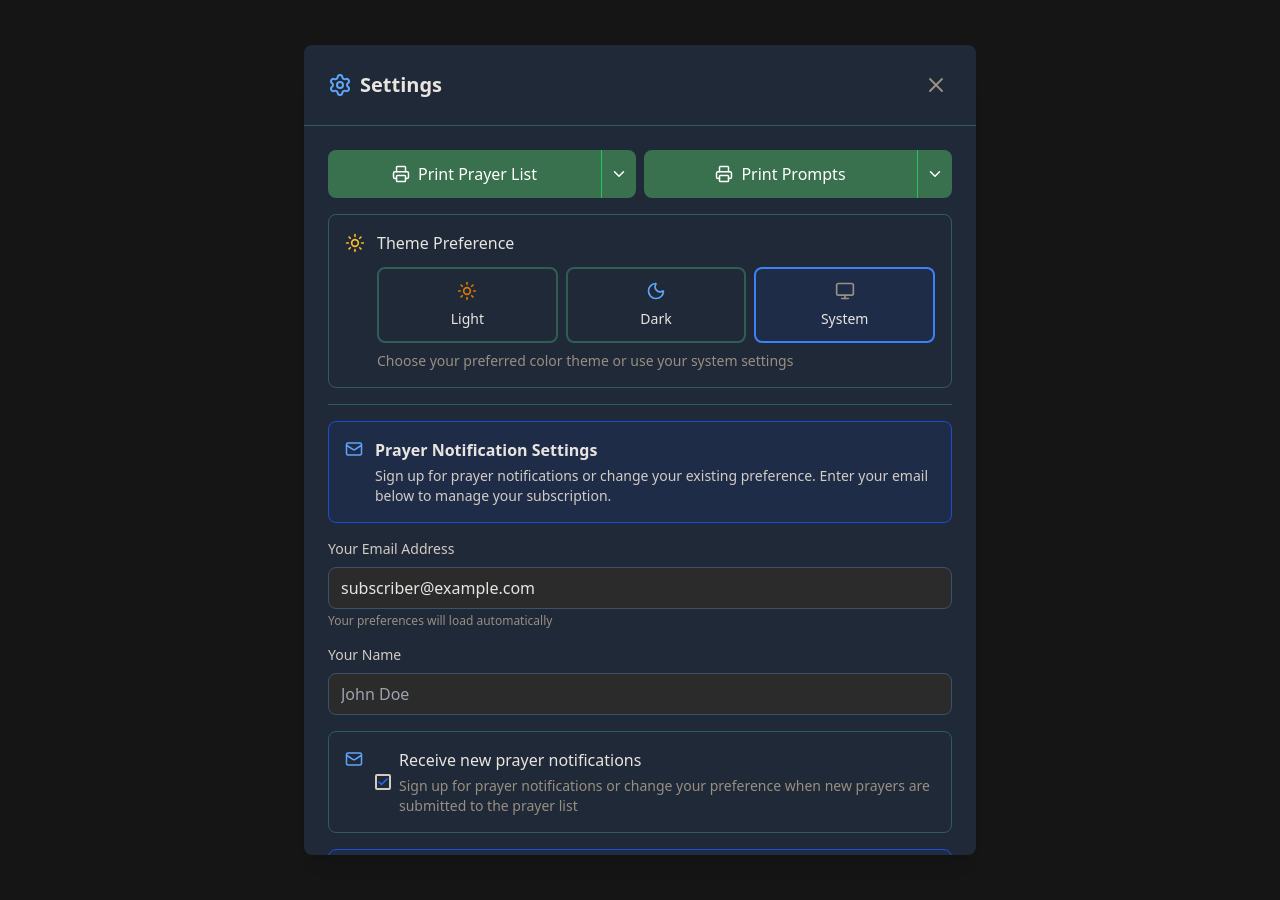
UserSettings › Save Preferences › shows Submitting... text while saving
Type "test@example.com" into the field with placeholder "your.email@example.com".
click(640, 588); type("test@example.com")  # box 328,567 -> 952,609
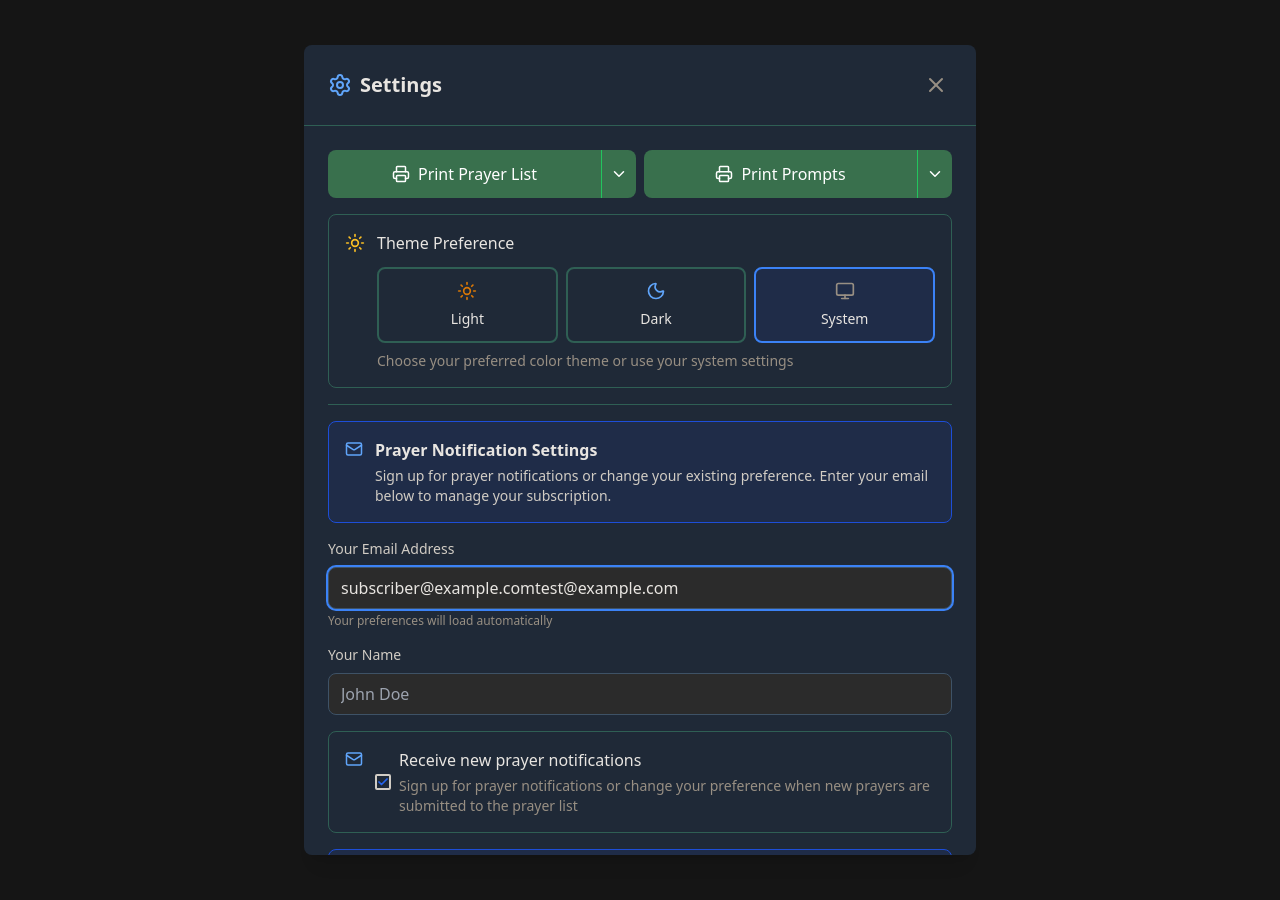
Type "Test User" into the field with placeholder "John Doe".
click(640, 694); type("Test User")  # box 328,673 -> 952,715
(page scrolled)
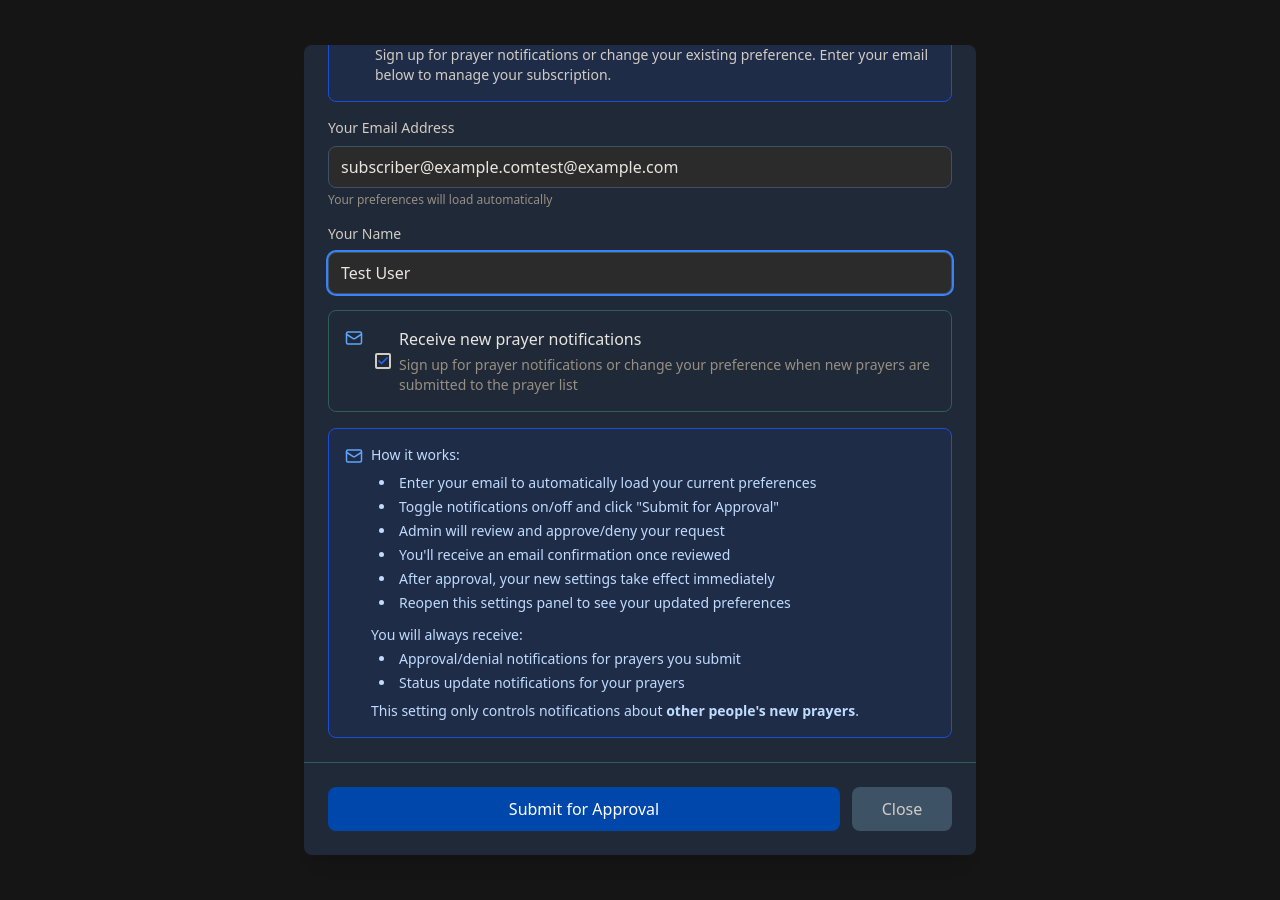
Click the button "Submit for Approval".
click(584, 809)  # box 328,787 -> 840,831
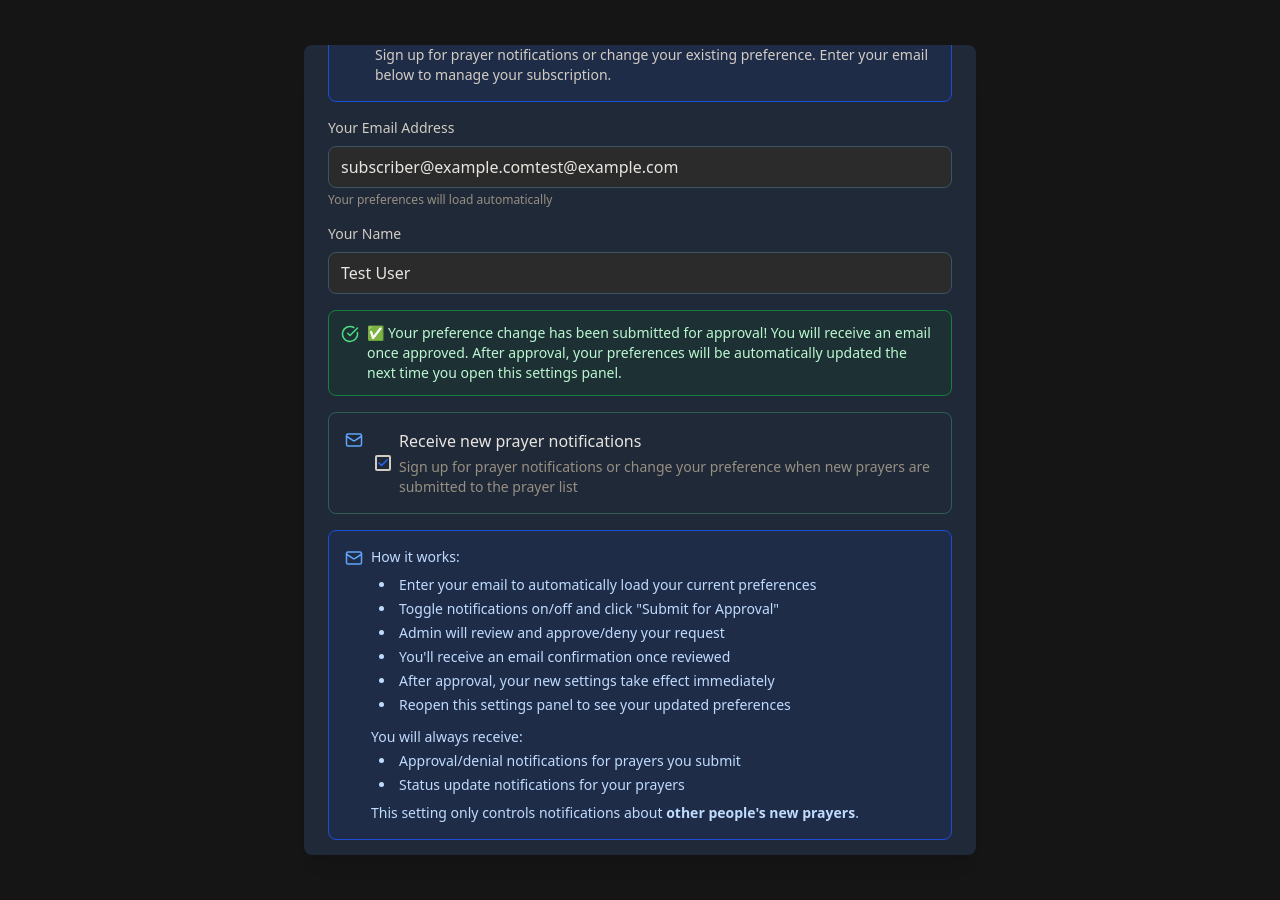
Expected: the text "Your preference change has been submitted" is shown, 367,323 -> 931,382
